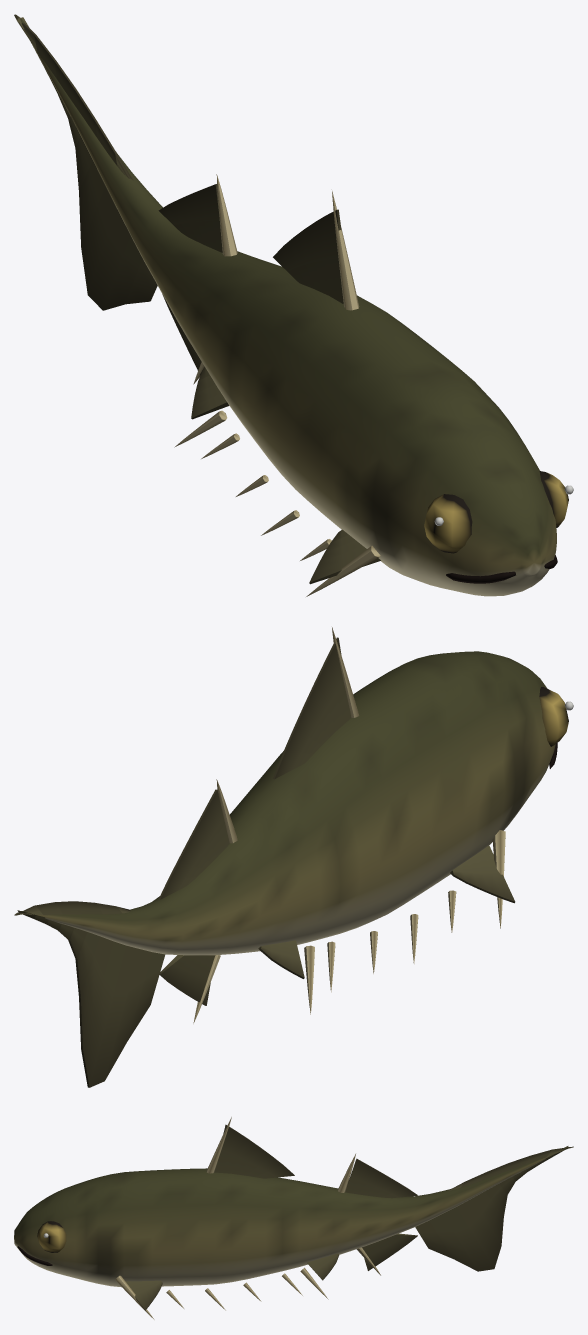
The model's file is Climatius.fbx.
3 renders of one model, top to bottom at view 1: azimuth 30°, elevation 25°; view 2: azimuth 150°, elevation 25°; view 3: azimuth 270°, elevation 25°, orthographic. The views are drawn at different scales.
Parts seen in each view (by area): view 1: Climatius; view 2: Climatius; view 3: Climatius.
Boxes of the visible parts, x1=… form: Climatius: x1=14, y1=14, x2=573, y2=596; Climatius: x1=14, y1=627, x2=573, y2=1087; Climatius: x1=14, y1=1117, x2=573, y2=1319.
Bounding box in the file's own units: 0.3337 × 0.5139 × 1.45.
